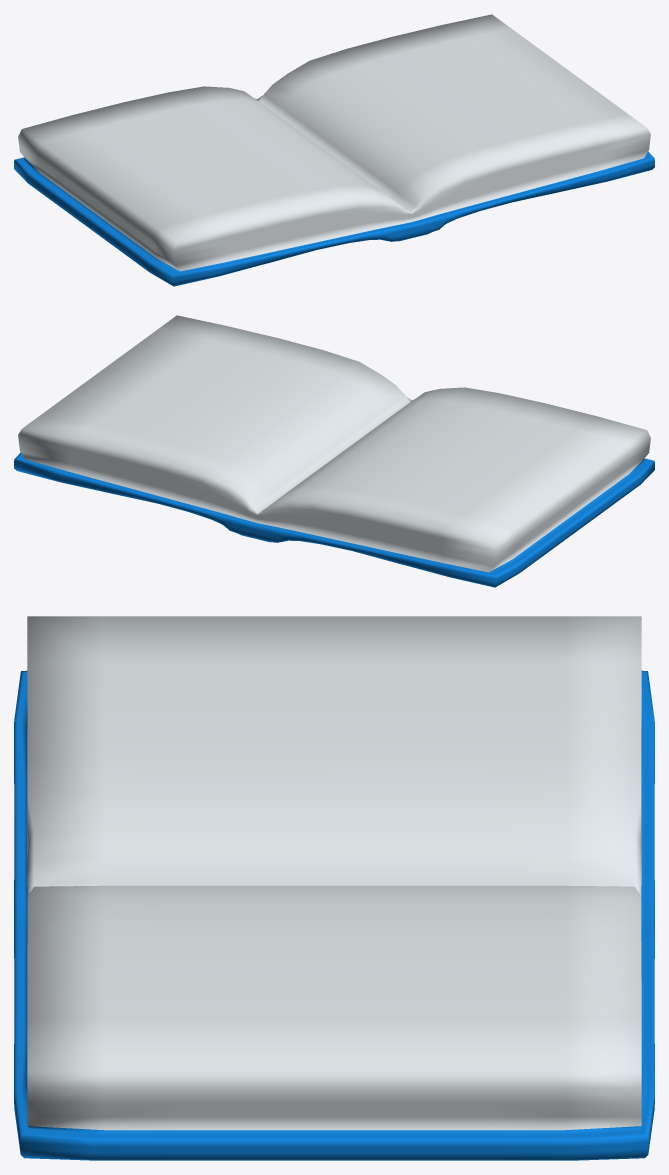
File: Book_open.fbx
The picture shows the model from 3 angles, top to bottom: view 1: azimuth 30°, elevation 25°; view 2: azimuth 150°, elevation 25°; view 3: azimuth 270°, elevation 25°; orthographic projection. The views are drawn at different scales.
Parts seen in each view (by area): view 1: Cube; view 2: Cube; view 3: Cube.
Part boxes in pixels (bbox=[...]): Cube: bbox=[14, 14, 654, 286]; Cube: bbox=[14, 315, 654, 587]; Cube: bbox=[14, 616, 654, 1160].
Size of the model in its own units: 204 by 21.17 by 116.
